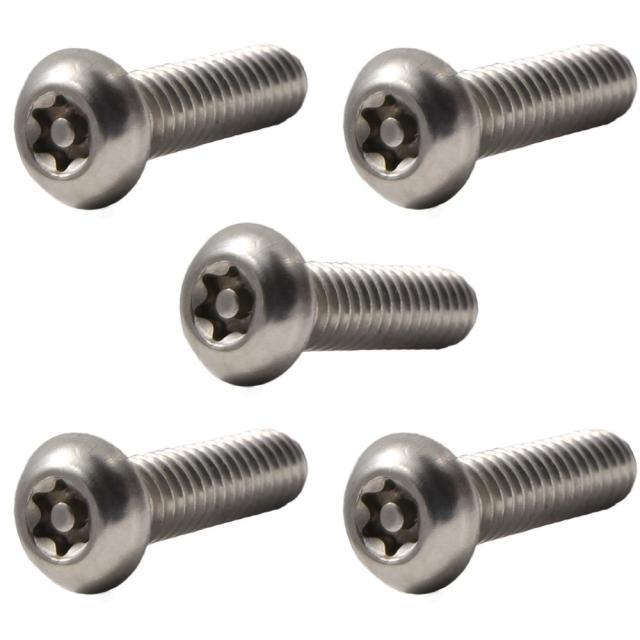torx: (342, 46, 479, 212), (342, 430, 476, 596), (178, 223, 311, 388), (14, 430, 146, 596), (12, 45, 145, 208)
